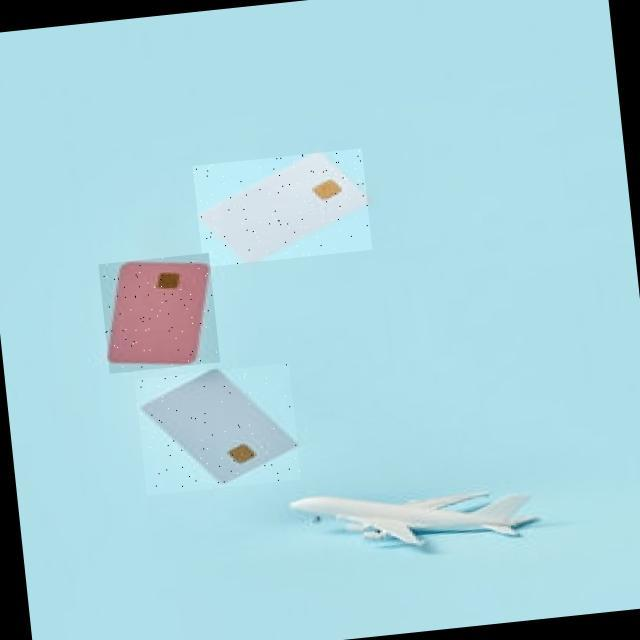payment_card: (191, 146, 372, 266), (139, 364, 297, 486), (98, 253, 213, 367)
